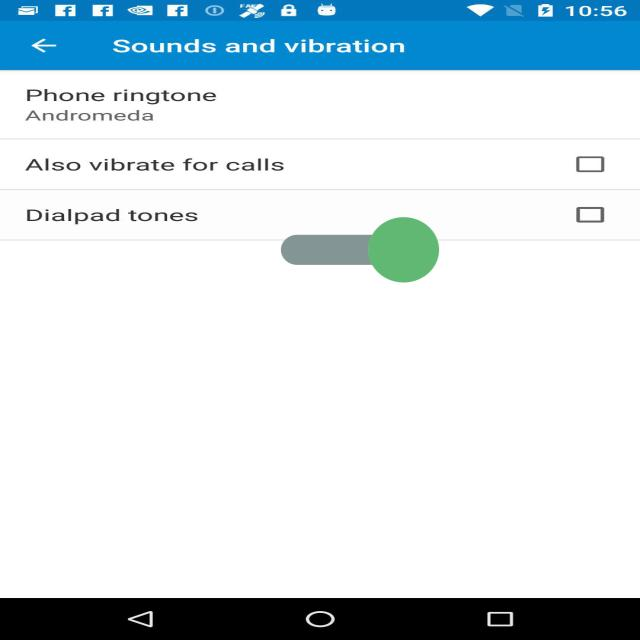social proof: (281, 177, 439, 323)
